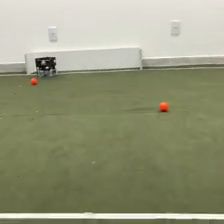ball: (157, 99, 169, 112), (29, 75, 38, 85)
goal: (24, 45, 144, 77)
robot: (33, 54, 58, 79)
